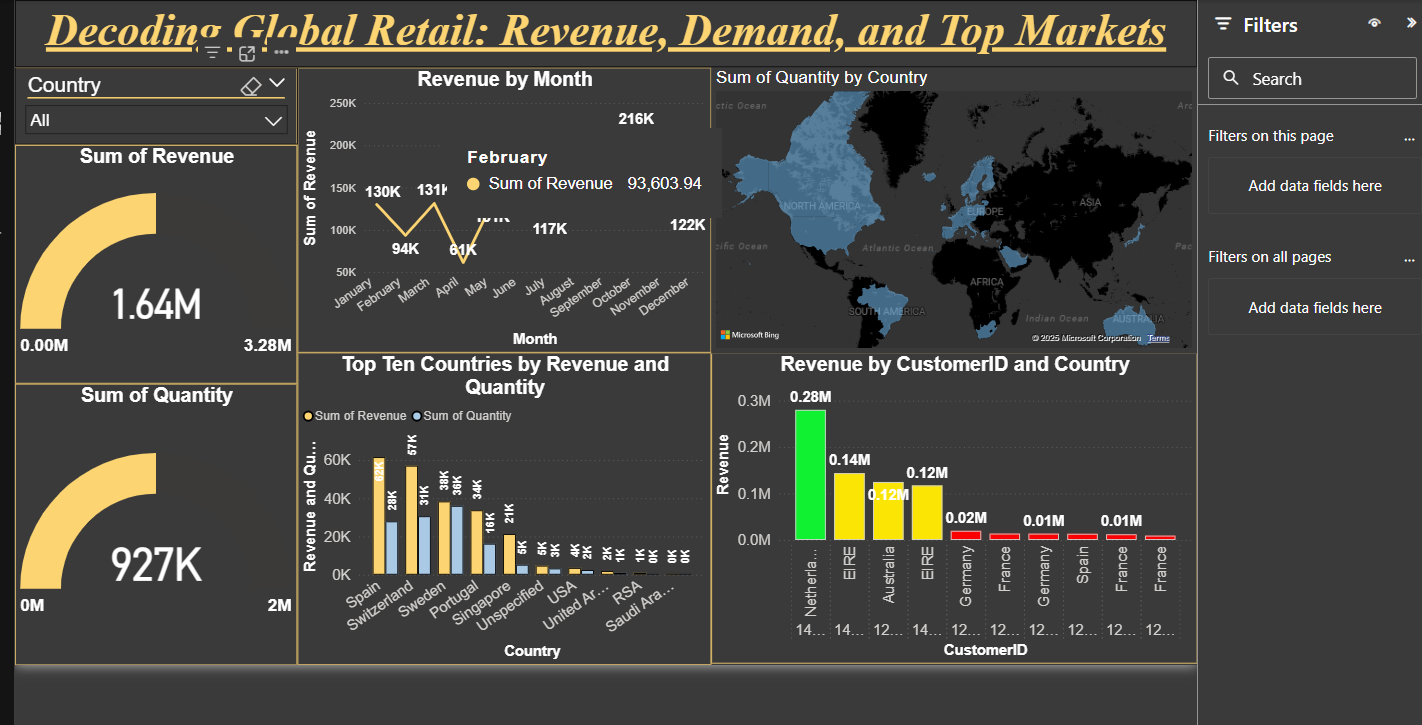

Layout of this report page (visuals, bound fields, positions):
{"tool":"powerbi","page":{"name":"Dashboard","canvas":[1280,720],"ordinal":4},"visuals":[{"type":"lineChart","title":" Revenue by Month","fields":{"Category":["Online Retail.InvoiceDate.Variation.Date Hierarchy.Month"],"Y":["Sum(Online Retail.Revenue)"]},"box":[305.9,73.1,448,308.6],"z":0},{"type":"clusteredColumnChart","title":"Top Ten Countries by Revenue and Quantity","fields":{"Category":["Online Retail.Country"],"Y":["Sum(Online Retail.Revenue)","Sum(Online Retail.Quantity)"]},"box":[305.9,381.6,448,338.3],"z":1000},{"type":"clusteredColumnChart","title":"Revenue by CustomerID and Country","fields":{"Category":["Online Retail.CustomerID","Online Retail.Country"],"Y":["Sum(Online Retail.Revenue)"]},"box":[753.8,381.6,526.5,337],"z":2000},{"type":"textbox","box":[0,0,1280.3,73.1],"z":3000},{"type":"gauge","fields":{"Y":["Sum(Online Retail.Revenue)"]},"box":[0,157,305.9,258.5],"z":4000},{"type":"gauge","fields":{"Y":["Sum(Online Retail.Quantity)"]},"box":[0,415.5,305.9,304.5],"z":5000},{"type":"slicer","fields":{"Values":["Online Retail.Country"]},"box":[0,73.1,305.9,83.9],"z":6000},{"type":"filledMap","fields":{"Category":["Online Retail.Country"]},"box":[754,73,526,309],"z":7000}]}

Visuals, with their boxes on the page's 1280x720 design canvas (x1, y1, x2, y2). These are canvas units, not pixel positions in the 1422x725 screenshot, which may show the page scaled, cropped or inside an application window:
" Revenue by Month" lineChart: bbox=[306, 73, 754, 382]
"Top Ten Countries by Revenue and Quantity" clusteredColumnChart: bbox=[306, 382, 754, 720]
"Revenue by CustomerID and Country" clusteredColumnChart: bbox=[754, 382, 1280, 719]
textbox: bbox=[0, 0, 1280, 73]
gauge - Sum(Online Retail.Revenue): bbox=[0, 157, 306, 416]
gauge - Sum(Online Retail.Quantity): bbox=[0, 416, 306, 720]
slicer - Online Retail.Country: bbox=[0, 73, 306, 157]
filledMap - Online Retail.Country: bbox=[754, 73, 1280, 382]
